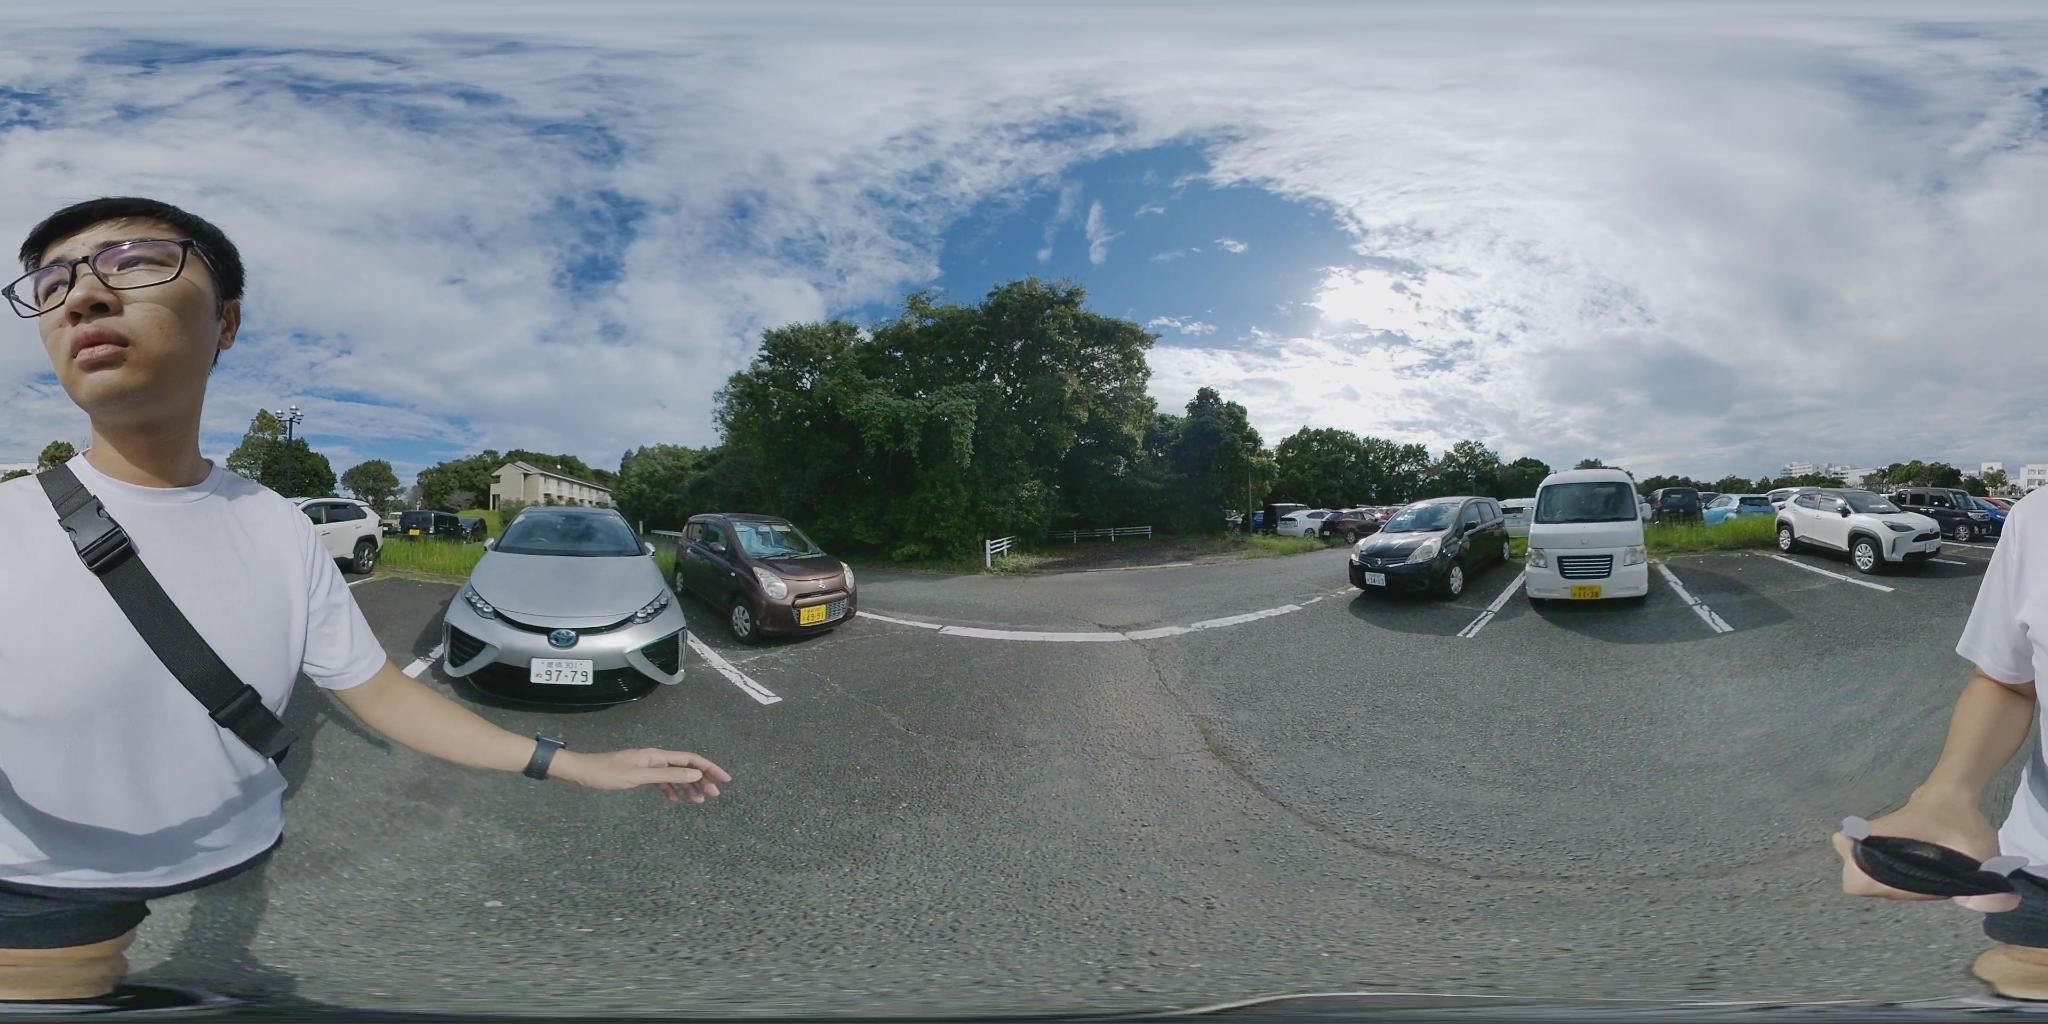car: (408, 503, 691, 713), (669, 515, 861, 644), (1340, 498, 1510, 600), (1528, 472, 1650, 603), (1775, 491, 1946, 569), (296, 498, 388, 580), (1889, 486, 2005, 538)
